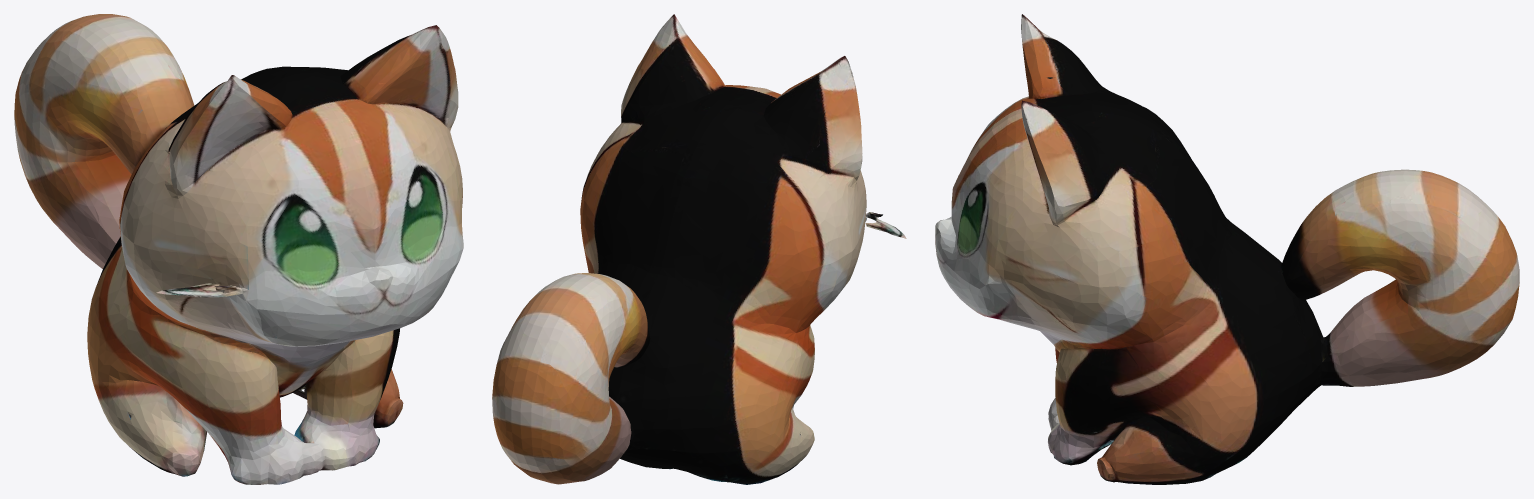
Rendered from tabby_ball.glb.
3 renders of one model, left to right at view 1: azimuth 30°, elevation 25°; view 2: azimuth 150°, elevation 25°; view 3: azimuth 270°, elevation 25°, orthographic. The views are drawn at different scales.
Visible parts, largest first — view 1: geometry_0; view 2: geometry_0; view 3: geometry_0.
Part boxes in pixels (x1,y1,x2,y2): geometry_0: (14,14,463,484); geometry_0: (492,14,906,484); geometry_0: (935,14,1519,484).
Bounding box in the file's own units: 0.7183 × 0.8999 × 1.25.
Materials: 1 (1 with a texture image).
